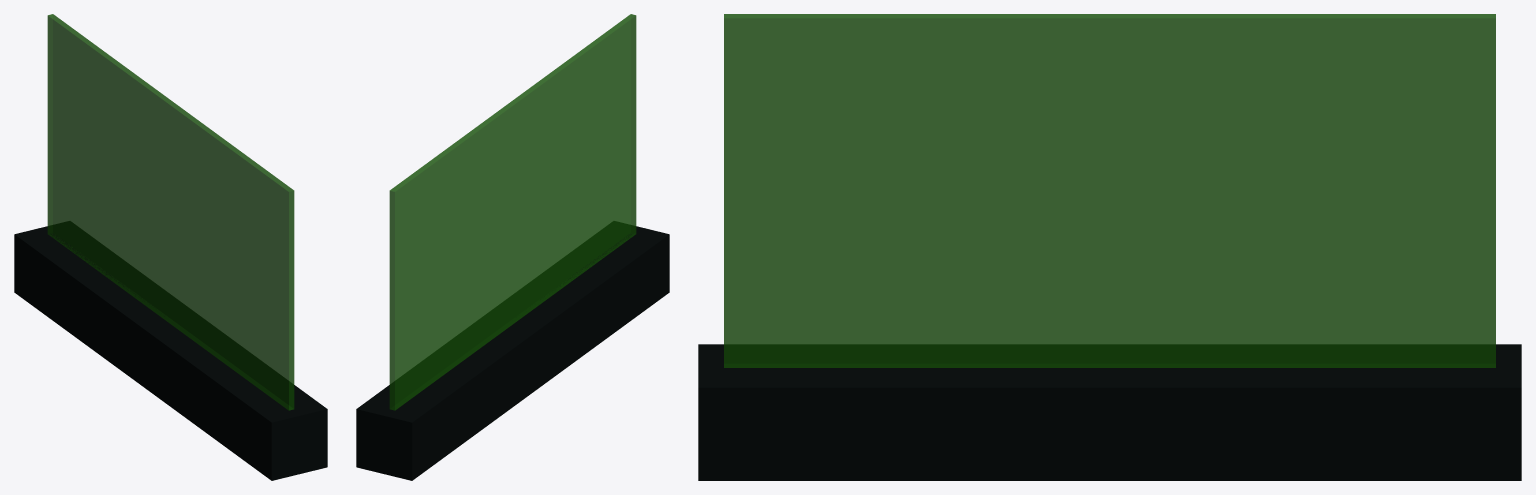
The model's file is terminal.fbx.
3 renders of one model, left to right at view 1: azimuth 30°, elevation 25°; view 2: azimuth 150°, elevation 25°; view 3: azimuth 270°, elevation 25°, orthographic. The views are drawn at different scales.
Visible parts, largest first — view 1: Obrazovka, Zakladna; view 2: Obrazovka, Zakladna; view 3: Obrazovka, Zakladna.
Part boxes in pixels (<box>): Obrazovka: <box>47,14,294,410</box>; Zakladna: <box>14,221,327,480</box>; Obrazovka: <box>389,14,636,410</box>; Zakladna: <box>356,221,669,480</box>; Obrazovka: <box>724,14,1495,367</box>; Zakladna: <box>698,344,1521,480</box>.
Size of the model in its own units: 20 by 95 by 160.
